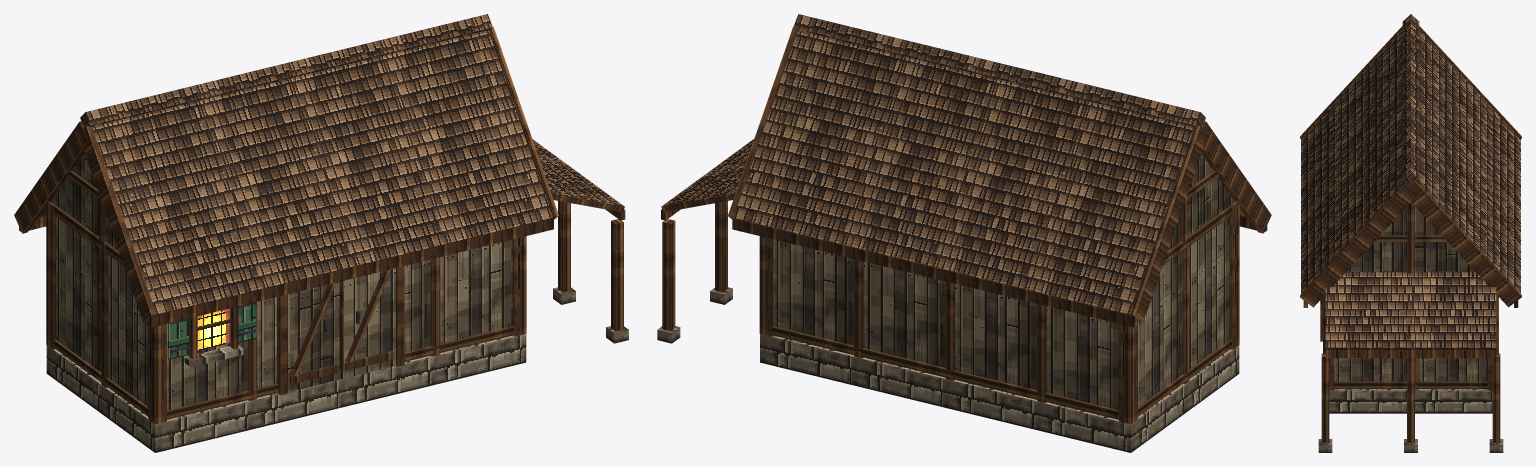
The model's file is MV_Barn_A.glb.
3 views of the same model, side by side, from view 1: azimuth 30°, elevation 25°; view 2: azimuth 150°, elevation 25°; view 3: azimuth 270°, elevation 25° (orthographic). The views are drawn at different scales.
Visible parts, largest first — view 1: MV_Roof_GableShingle_2m_A.MV_Barn_A, MV_Roof_GableShingle_2m_A.MV_Barn_A.002, MV_Roof_GableShingle_2m_A.MV_Barn_A.001, MV_Roof_GableShingle_2m_A.MV_Barn_A.003, MV_Door_Barn_A.MV_Barn_A, MV_Roof_GableShingleEnd_A.MV_Barn_A, MV_Wall_Plank_2m_A.MV_Barn_A.003, MV_Wall_Plank_2m_A.MV_Barn_A.010, MV_Wall_Plank_2m_A.MV_Barn_A.011, MV_Roof_GableShingleEnd_A.MV_Barn_A.001, MV_Wall_Plank_2m_A.MV_Barn_A, MV_Window_Shutter_A.MV_Barn_A (+15 smaller); view 2: MV_Roof_GableShingle_2m_A.MV_Barn_A, MV_Roof_GableShingle_2m_A.MV_Barn_A.001, MV_Roof_GableShingle_2m_A.MV_Barn_A.002, MV_Roof_GableShingle_2m_A.MV_Barn_A.003, MV_Roof_GableShingleEnd_A.MV_Barn_A, MV_Wall_Plank_2m_A.MV_Barn_A.007, MV_Wall_Plank_2m_A.MV_Barn_A.008, MV_Wall_Plank_2m_A.MV_Barn_A.009, MV_Wall_Plank_2m_A.MV_Barn_A.006, MV_Wall_Plank_2m_A.MV_Barn_A.011, MV_Wall_Plank_2m_A.MV_Barn_A.010, MV_Roof_GableShingleEnd_A.MV_Barn_A.001 (+13 smaller); view 3: MV_Roof_GableShingle_2m_A.MV_Barn_A.002, MV_Roof_GableShingle_2m_A.MV_Barn_A.001, MV_Roof_GableShingle_2m_A.MV_Barn_A, MV_Roof_GableShingle_2m_A.MV_Barn_A.003, MV_Roof_LeanTo_2m_A.MV_Barn_A.001, MV_Roof_LeanTo_2m_A.MV_Barn_A, MV_Roof_GableShingleEnd_A.MV_Barn_A.001, MV_Wall_Gable_Plank_4m_A.MV_Barn_A.001, MV_Wall_Plank_2m_A.MV_Barn_A.005, MV_Roof_GableShingleEnd_A.MV_Barn_A, MV_Wall_Plank_2m_A.MV_Barn_A.004, MV_Foundation_Stone_2m_A.MV_Barn_A.009 (+6 smaller).
Part boxes in pixels (left/top/right/bottom): MV_Roof_GableShingle_2m_A.MV_Barn_A: left=40, top=85, right=262, bottom=322; MV_Roof_GableShingle_2m_A.MV_Barn_A.002: left=286, top=41, right=445, bottom=278; MV_Roof_GableShingle_2m_A.MV_Barn_A.001: left=195, top=63, right=354, bottom=300; MV_Roof_GableShingle_2m_A.MV_Barn_A.003: left=378, top=18, right=537, bottom=255; MV_Door_Barn_A.MV_Barn_A: left=277, top=266, right=404, bottom=395; MV_Roof_GableShingleEnd_A.MV_Barn_A: left=14, top=108, right=171, bottom=327; MV_Wall_Plank_2m_A.MV_Barn_A.003: left=430, top=240, right=514, bottom=356; MV_Wall_Plank_2m_A.MV_Barn_A.010: left=49, top=201, right=101, bottom=381; MV_Wall_Plank_2m_A.MV_Barn_A.011: left=101, top=241, right=167, bottom=419; MV_Roof_GableShingleEnd_A.MV_Barn_A.001: left=469, top=14, right=558, bottom=233; MV_Wall_Plank_2m_A.MV_Barn_A: left=167, top=323, right=249, bottom=419; MV_Window_Shutter_A.MV_Barn_A: left=168, top=302, right=256, bottom=367; MV_Roof_GableShingle_2m_A.MV_Barn_A: left=1023, top=85, right=1246, bottom=322; MV_Roof_GableShingle_2m_A.MV_Barn_A.001: left=932, top=63, right=1090, bottom=300; MV_Roof_GableShingle_2m_A.MV_Barn_A.002: left=840, top=41, right=999, bottom=278; MV_Roof_GableShingle_2m_A.MV_Barn_A.003: left=749, top=18, right=907, bottom=255; MV_Roof_GableShingleEnd_A.MV_Barn_A: left=1114, top=108, right=1271, bottom=327; MV_Wall_Plank_2m_A.MV_Barn_A.007: left=854, top=259, right=945, bottom=377; MV_Wall_Plank_2m_A.MV_Barn_A.008: left=945, top=281, right=1036, bottom=399; MV_Wall_Plank_2m_A.MV_Barn_A.009: left=1037, top=304, right=1118, bottom=419; MV_Wall_Plank_2m_A.MV_Barn_A.006: left=771, top=240, right=853, bottom=354; MV_Wall_Plank_2m_A.MV_Barn_A.011: left=1182, top=201, right=1237, bottom=384; MV_Wall_Plank_2m_A.MV_Barn_A.010: left=1118, top=241, right=1184, bottom=416; MV_Roof_GableShingleEnd_A.MV_Barn_A.001: left=727, top=14, right=816, bottom=233; MV_Roof_GableShingle_2m_A.MV_Barn_A.002: left=1301, top=94, right=1520, bottom=253; MV_Roof_GableShingle_2m_A.MV_Barn_A.001: left=1301, top=57, right=1520, bottom=216; MV_Roof_GableShingle_2m_A.MV_Barn_A: left=1301, top=21, right=1520, bottom=180; MV_Roof_GableShingle_2m_A.MV_Barn_A.003: left=1301, top=130, right=1520, bottom=289; MV_Roof_LeanTo_2m_A.MV_Barn_A.001: left=1411, top=272, right=1496, bottom=358; MV_Roof_LeanTo_2m_A.MV_Barn_A: left=1325, top=272, right=1410, bottom=358; MV_Roof_GableShingleEnd_A.MV_Barn_A.001: left=1300, top=166, right=1521, bottom=307; MV_Wall_Gable_Plank_4m_A.MV_Barn_A.001: left=1347, top=202, right=1475, bottom=273; MV_Wall_Plank_2m_A.MV_Barn_A.005: left=1415, top=358, right=1487, bottom=390; MV_Roof_GableShingleEnd_A.MV_Barn_A: left=1300, top=14, right=1521, bottom=144; MV_Wall_Plank_2m_A.MV_Barn_A.004: left=1334, top=358, right=1406, bottom=389; MV_Foundation_Stone_2m_A.MV_Barn_A.009: left=1329, top=389, right=1406, bottom=413.
Size of the model in its own units: 10.71 by 6.37 by 5.19.
Materials: 7 (7 with a texture image).
